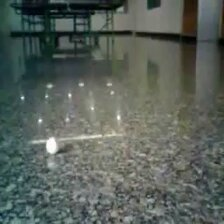w: (46, 136, 60, 154)
